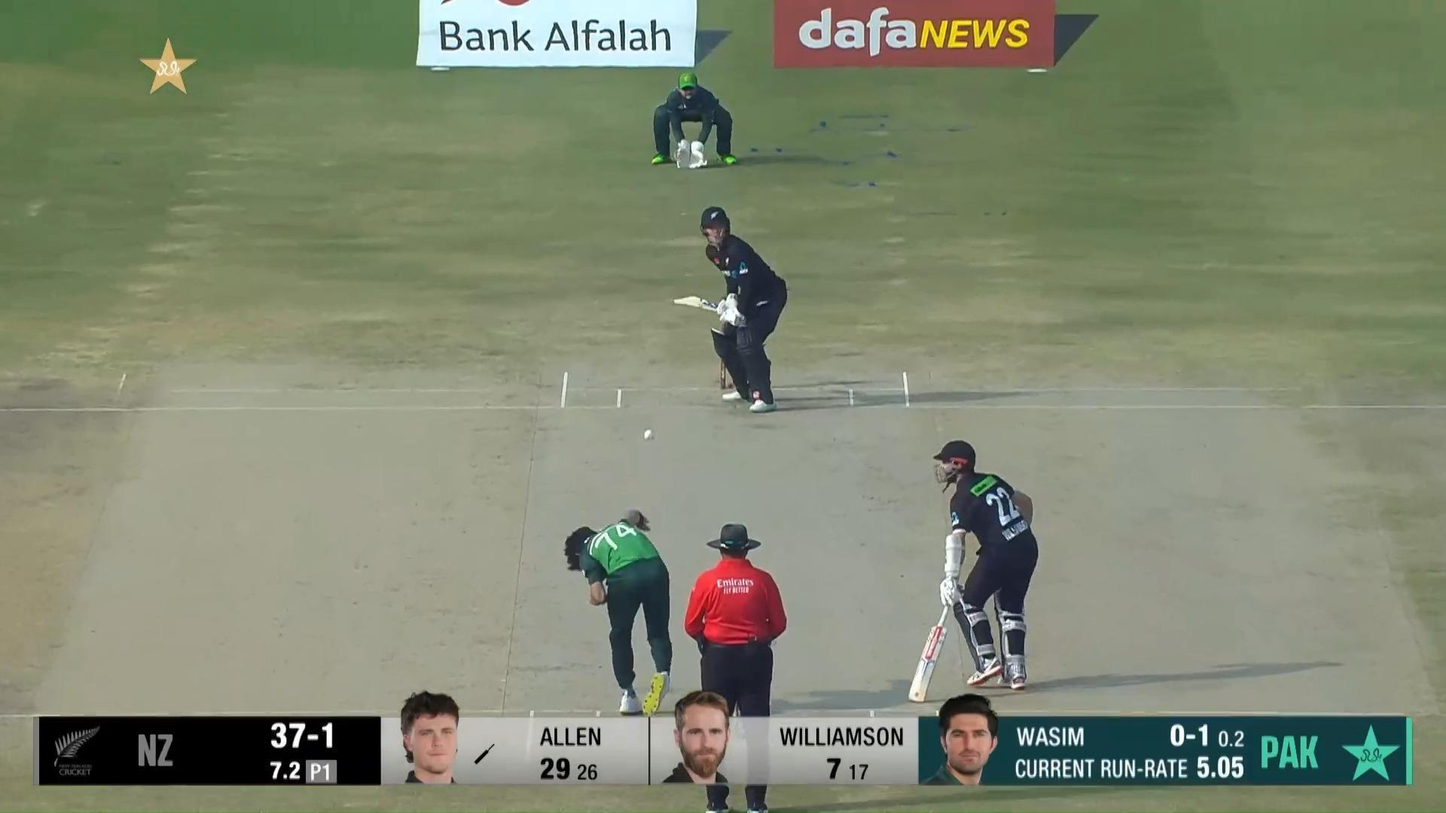BM 1: (671, 204, 789, 413)
BO: (562, 506, 674, 716)
